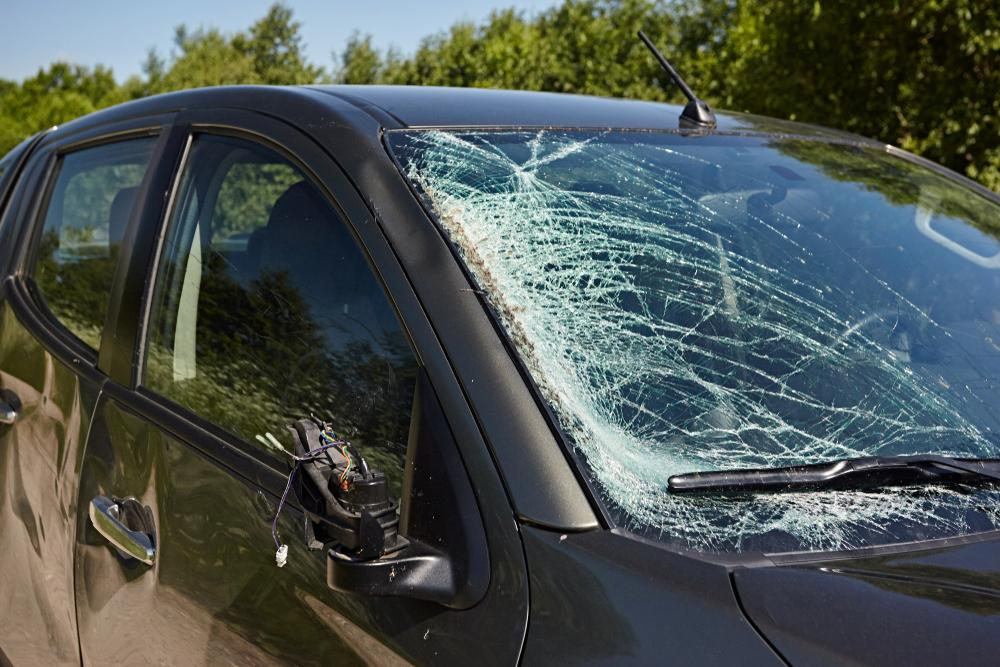dent: (76, 397, 163, 645), (0, 349, 81, 550)
glass shatter: (385, 127, 1000, 552)
